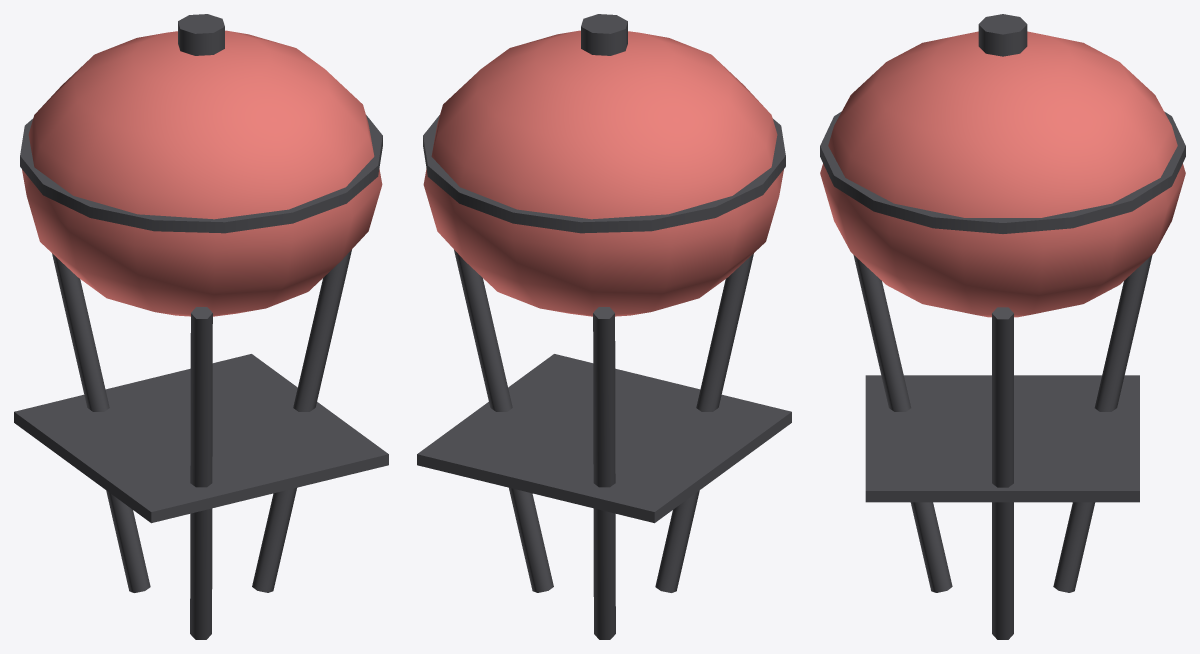
3 renders of one model, left to right at view 1: azimuth 30°, elevation 25°; view 2: azimuth 150°, elevation 25°; view 3: azimuth 270°, elevation 25°, orthographic.
Parts seen in each view (by area): view 1: Decor_bbq_grill; view 2: Decor_bbq_grill; view 3: Decor_bbq_grill.
Part boxes in pixels (bbox=[...]): Decor_bbq_grill: bbox=[14, 14, 388, 639]; Decor_bbq_grill: bbox=[417, 14, 791, 639]; Decor_bbq_grill: bbox=[820, 14, 1185, 639].
Bounding box in the file's own units: 0.6 × 1.05 × 0.6.
